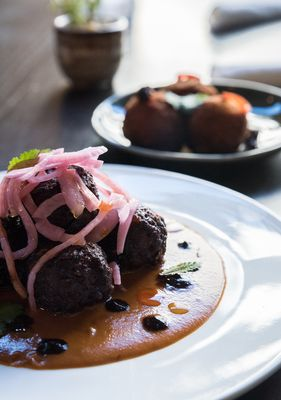pizza: (111, 0, 216, 94)
